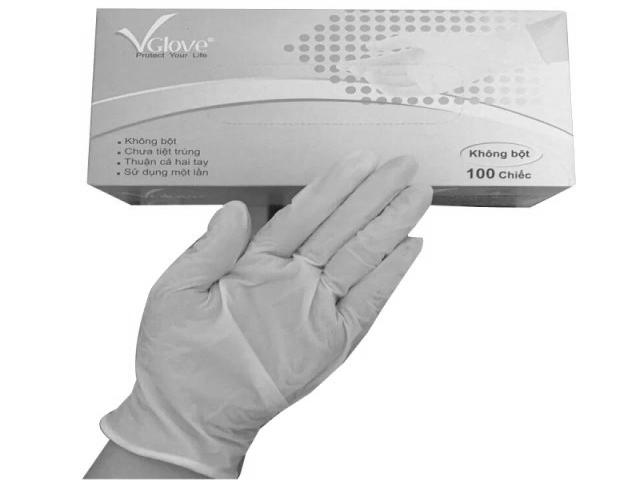gloved: (128, 149, 434, 417), (334, 29, 496, 97)
